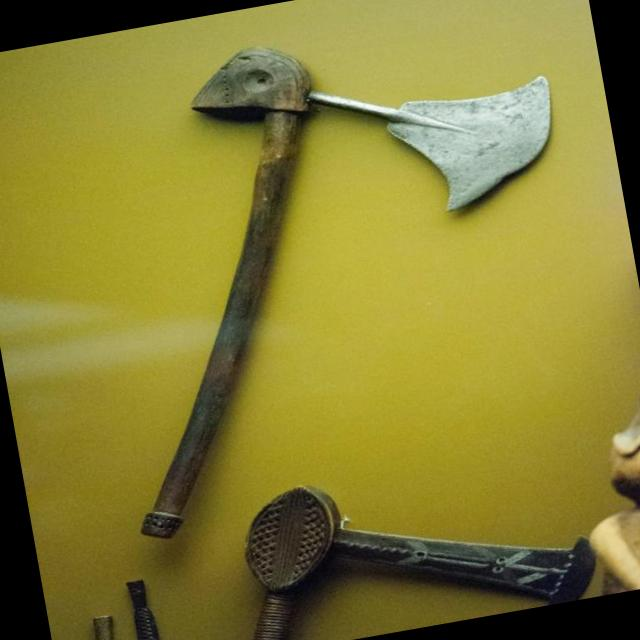Axe: (141, 48, 550, 536)
